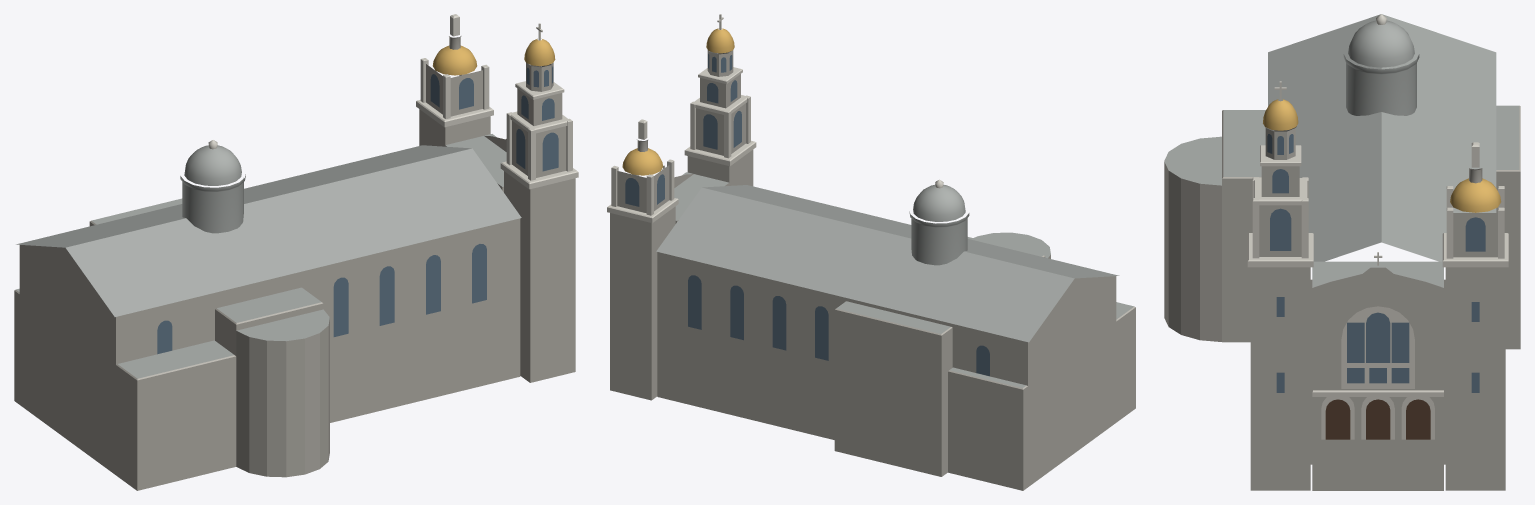
Rendered from sat-little-flower-basilica.glb.
3 views of the same model, side by side, from view 1: azimuth 30°, elevation 25°; view 2: azimuth 150°, elevation 25°; view 3: azimuth 270°, elevation 25° (orthographic). The views are drawn at different scales.
Visible parts, largest first — view 1: Basilica of the Little Flower; view 2: Basilica of the Little Flower; view 3: Basilica of the Little Flower.
Boxes of the visible parts, bbox=[...] form: Basilica of the Little Flower: bbox=[14, 14, 578, 490]; Basilica of the Little Flower: bbox=[607, 14, 1135, 490]; Basilica of the Little Flower: bbox=[1164, 14, 1520, 490].
Size of the model in its own units: 54.5 by 39.2 by 32.
